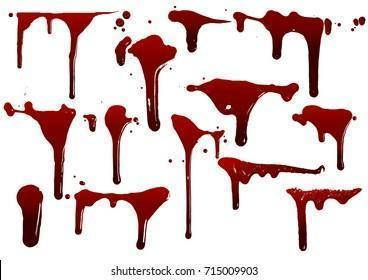Fire: (234, 11, 332, 96), (18, 12, 113, 99), (187, 79, 300, 146), (4, 102, 76, 200), (173, 115, 224, 238), (75, 187, 168, 250), (116, 35, 177, 130), (219, 158, 324, 210), (288, 189, 360, 250), (294, 105, 353, 170), (170, 10, 229, 52), (105, 105, 133, 184), (17, 185, 43, 248), (84, 115, 96, 132), (354, 16, 366, 26), (116, 18, 125, 26), (123, 11, 131, 18), (8, 12, 13, 16), (148, 19, 152, 23)
